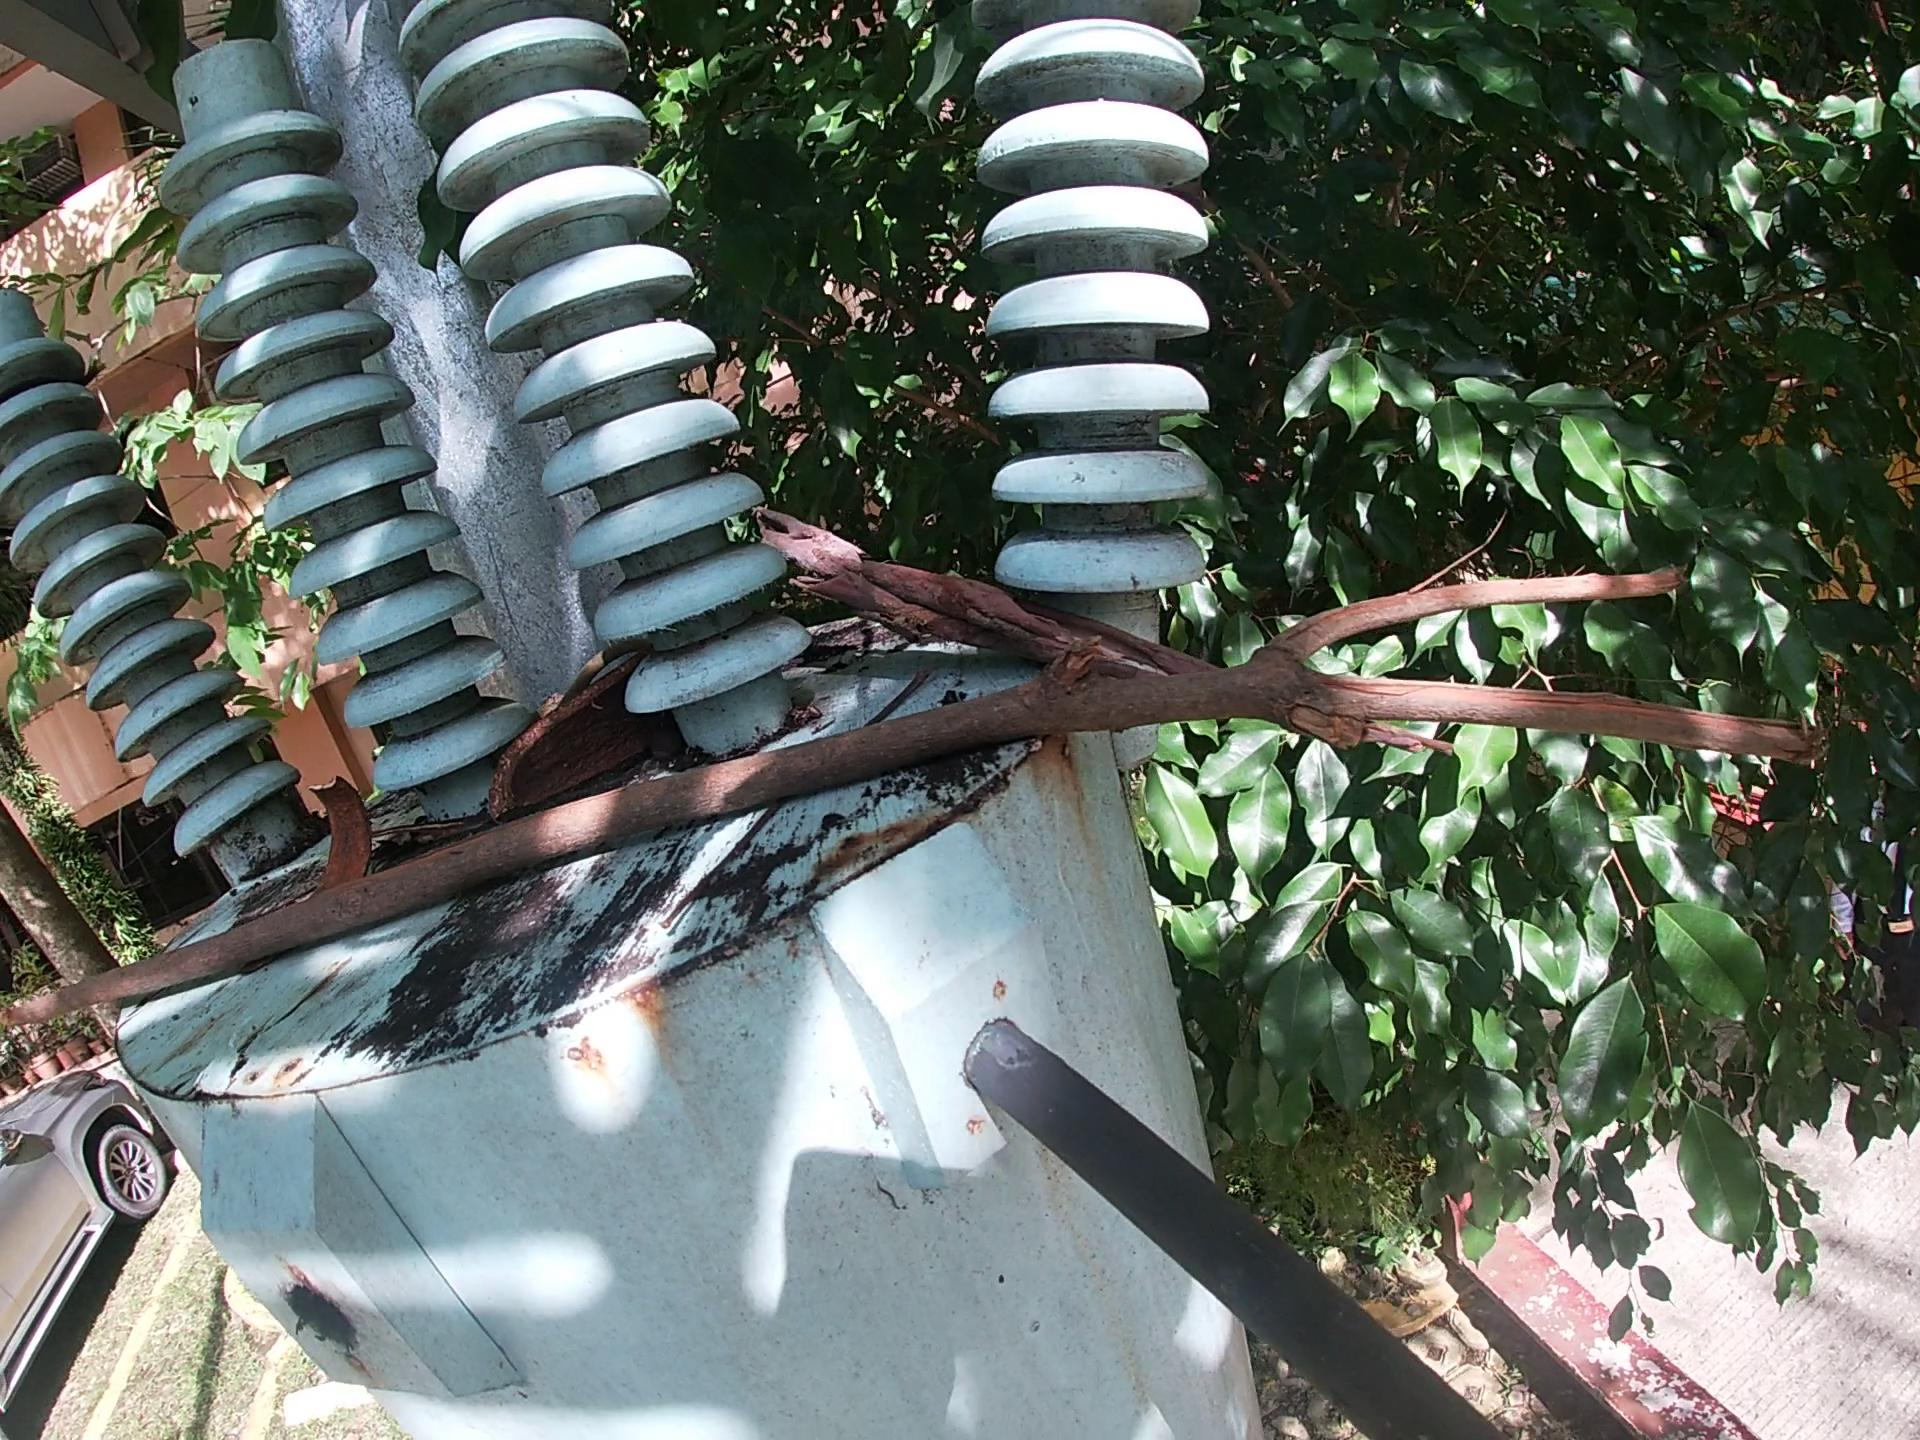mahogany fruit: (479, 661, 655, 843), (307, 749, 382, 880)
tree branch: (14, 538, 1832, 1053), (741, 514, 1197, 675), (661, 802, 788, 942), (851, 653, 934, 725), (370, 817, 484, 864), (540, 646, 615, 690)
